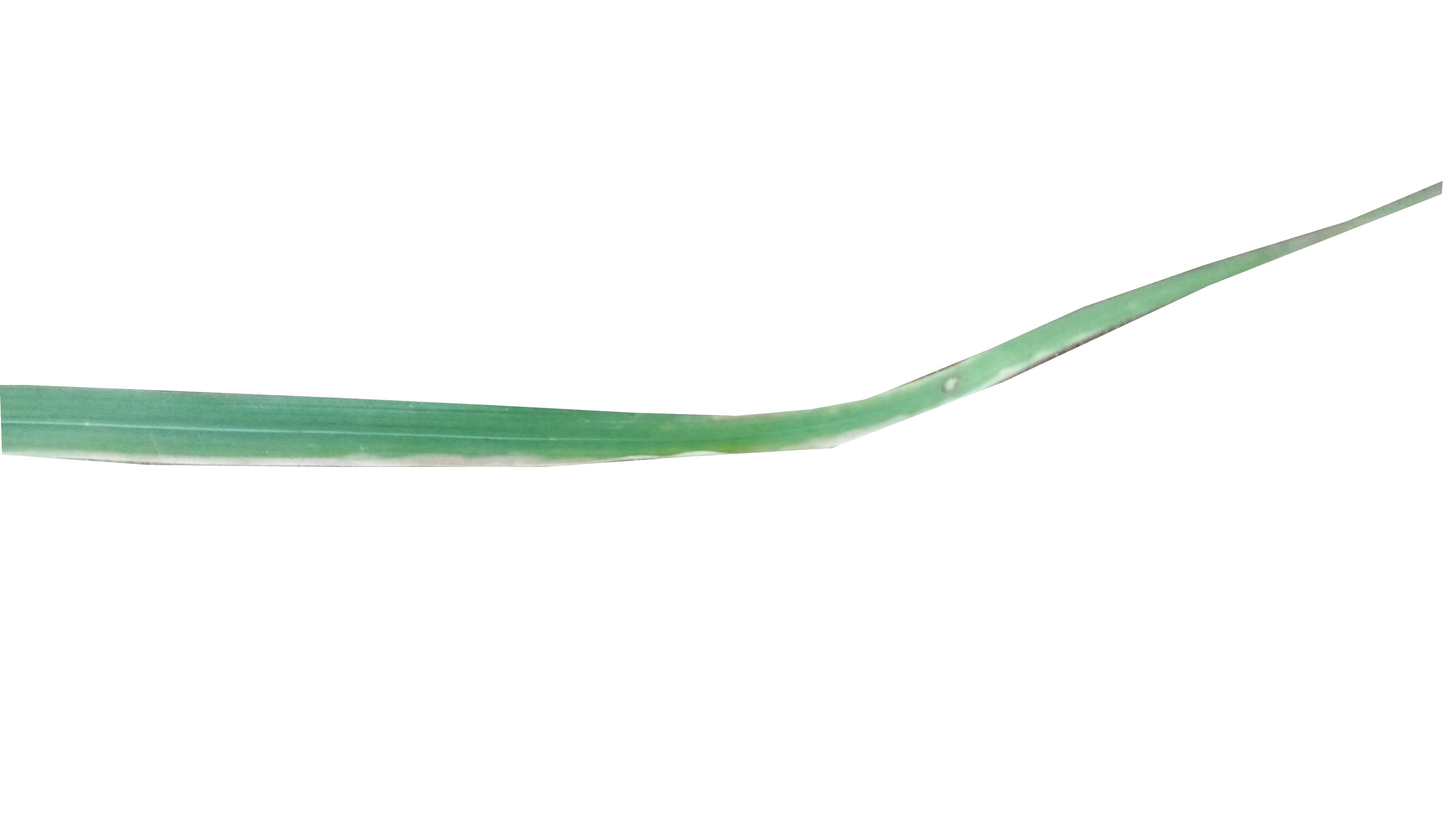Blight: (375, 446, 563, 467)
